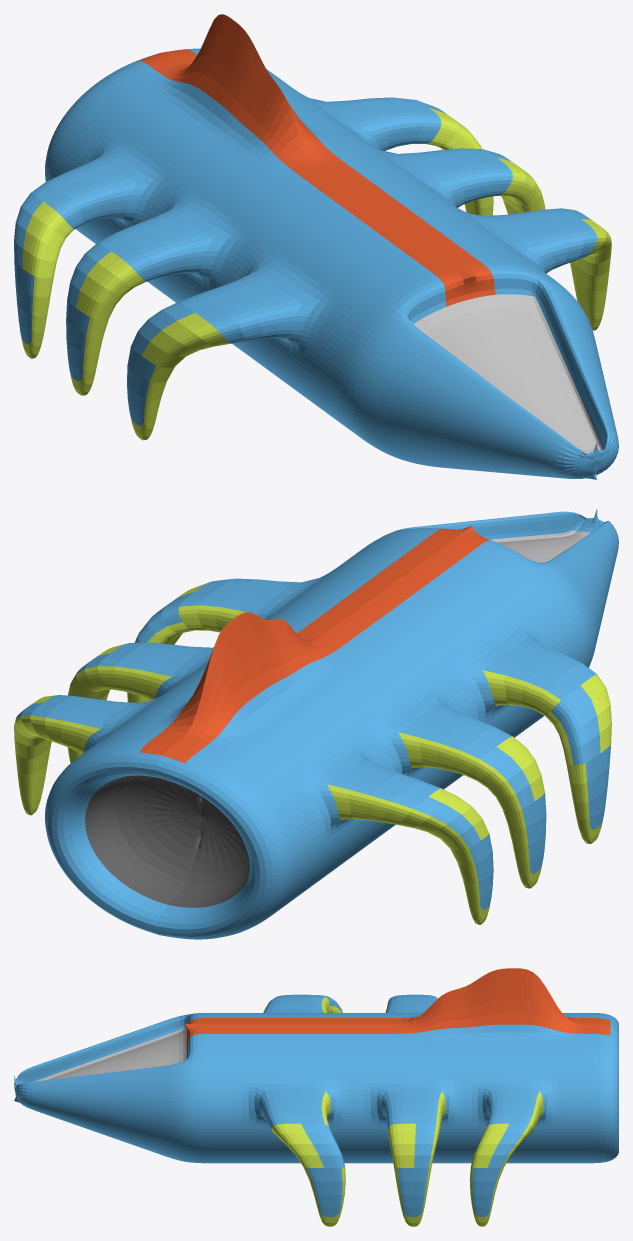
The model's file is nave2.fbx.
The picture shows the model from 3 angles, top to bottom: view 1: azimuth 30°, elevation 25°; view 2: azimuth 150°, elevation 25°; view 3: azimuth 270°, elevation 25°; orthographic projection. The views are drawn at different scales.
Parts seen in each view (by area): view 1: Cylinder; view 2: Cylinder; view 3: Cylinder.
Boxes of the visible parts, x1,y1,x2,y2 form: Cylinder: (14, 14, 618, 479); Cylinder: (14, 509, 618, 939); Cylinder: (14, 968, 618, 1226).
Bounding box in the file's own units: 5.23 × 8.6 × 2.88.
